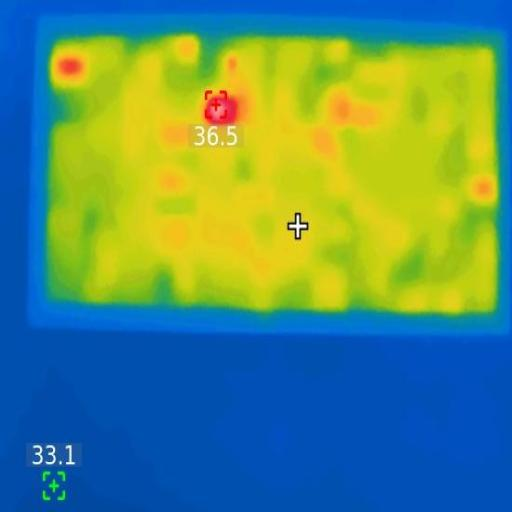hotspot: (207, 93, 238, 126), (56, 57, 85, 76)
